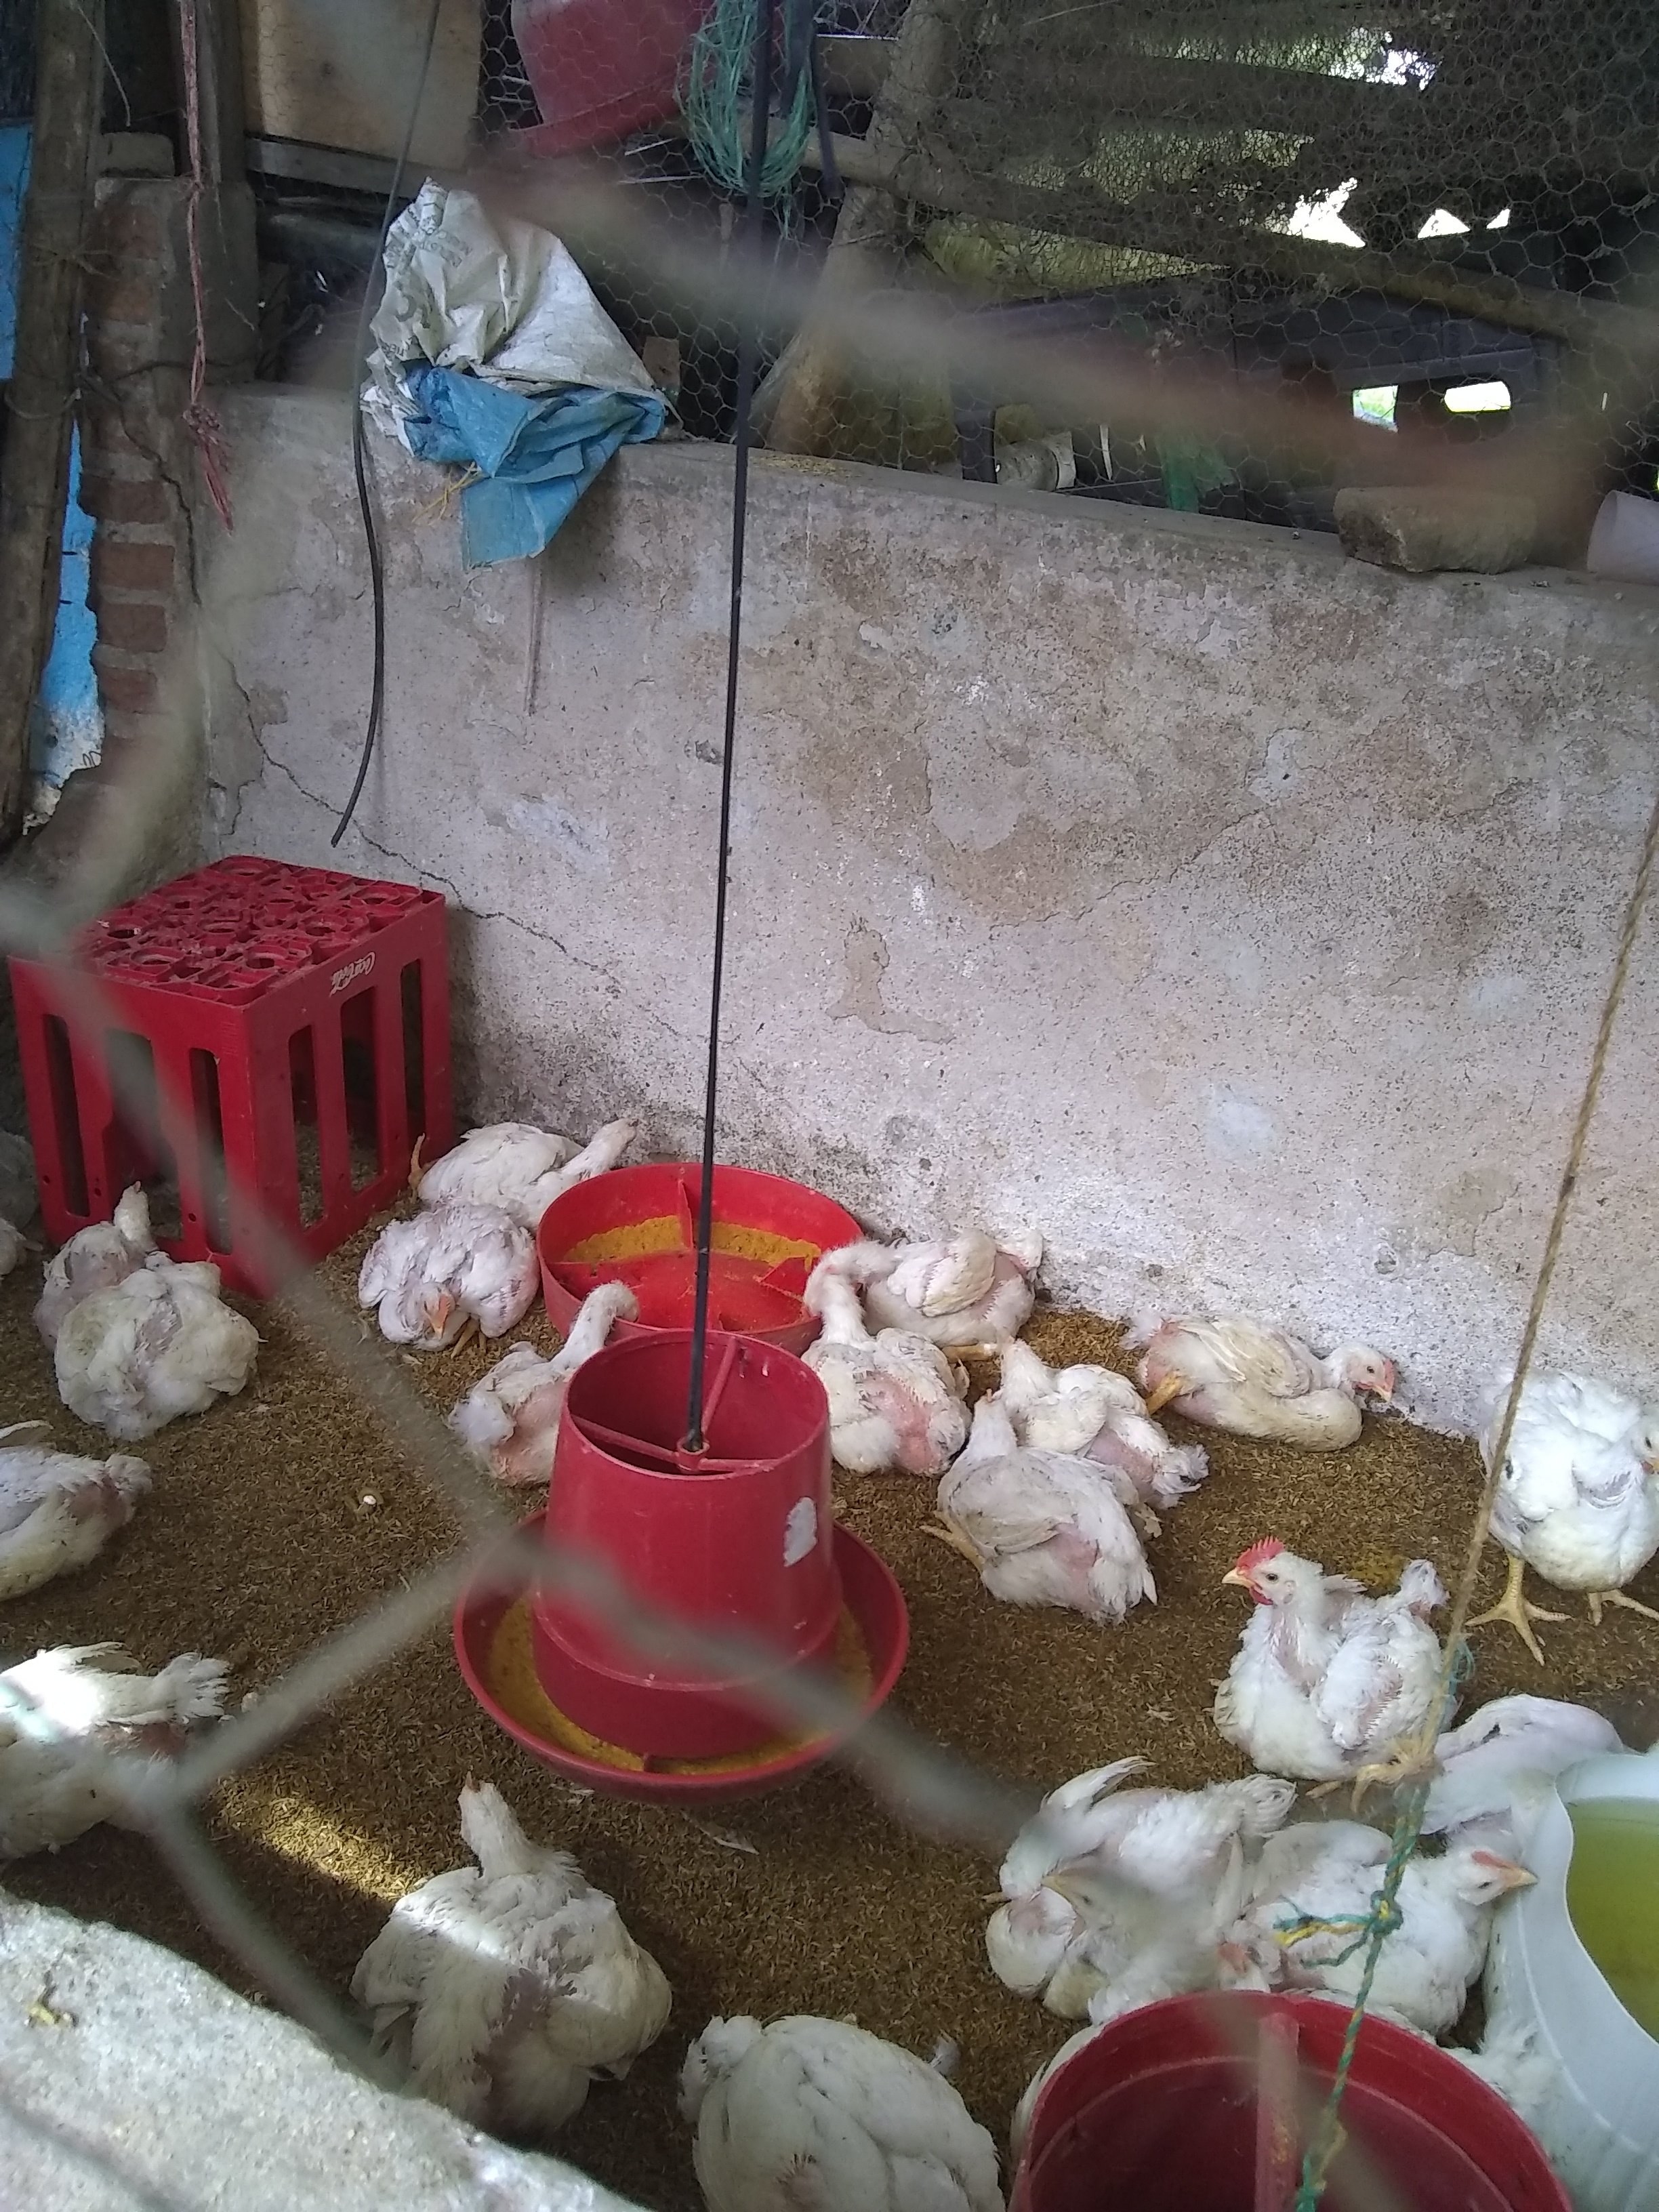Pollos: (342, 1759, 680, 2161), (688, 1984, 1039, 2212), (0, 1606, 277, 1886), (1263, 1811, 1553, 2054), (988, 1759, 1258, 2013), (30, 1163, 289, 1423), (1190, 1534, 1443, 1773), (939, 1392, 1169, 1622), (1492, 1348, 1659, 1646), (451, 1264, 652, 1487), (1159, 1292, 1403, 1463), (1415, 1669, 1645, 1843), (359, 1062, 645, 1198), (821, 1181, 1051, 1339), (1002, 1334, 1190, 1514), (803, 1259, 943, 1491), (342, 1207, 551, 1357), (0, 1433, 179, 1587)
